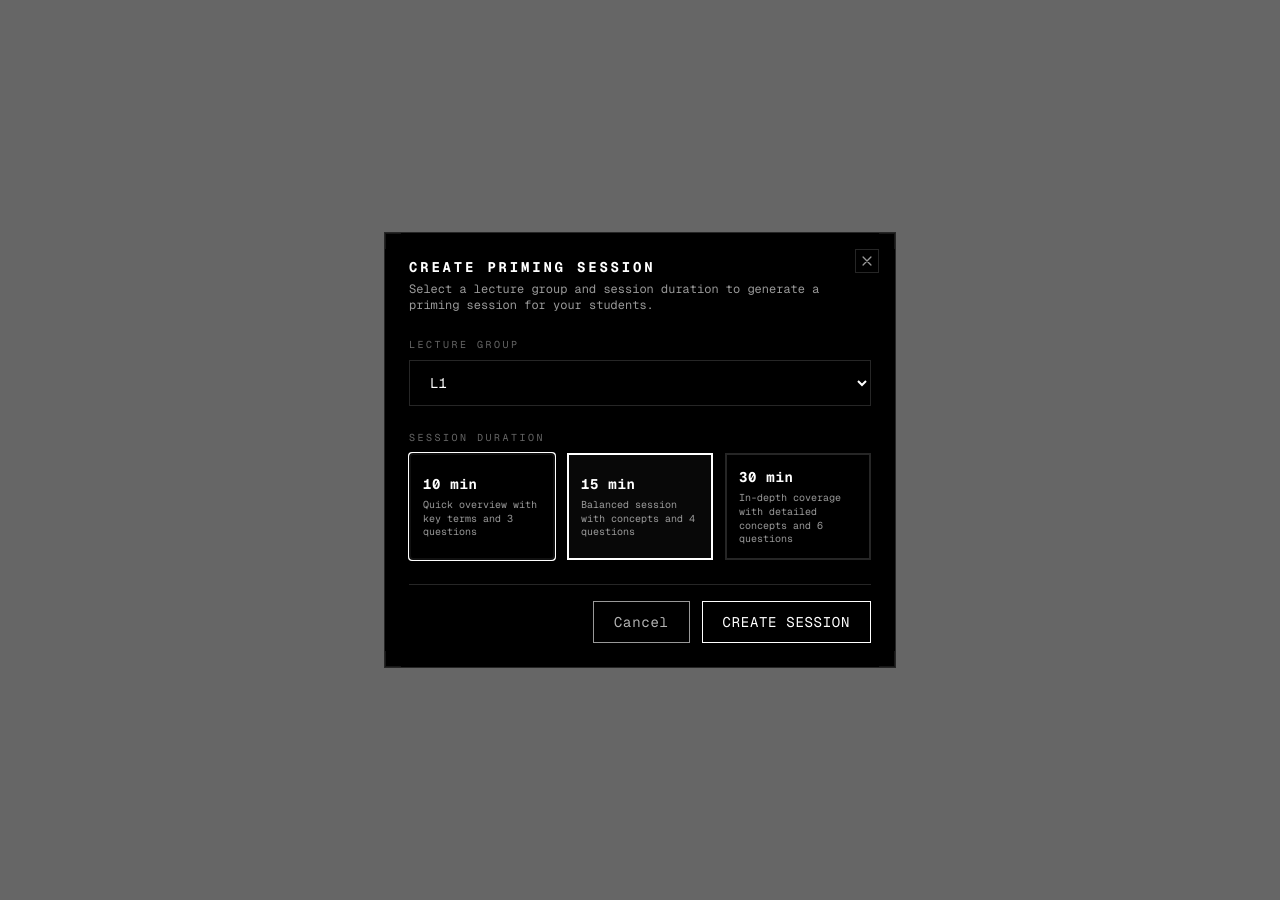
Scenario: CreateSessionModal › displays API error message
Step 1. Select "L1" in the dropdown → (640, 383), box [409,360,871,406]
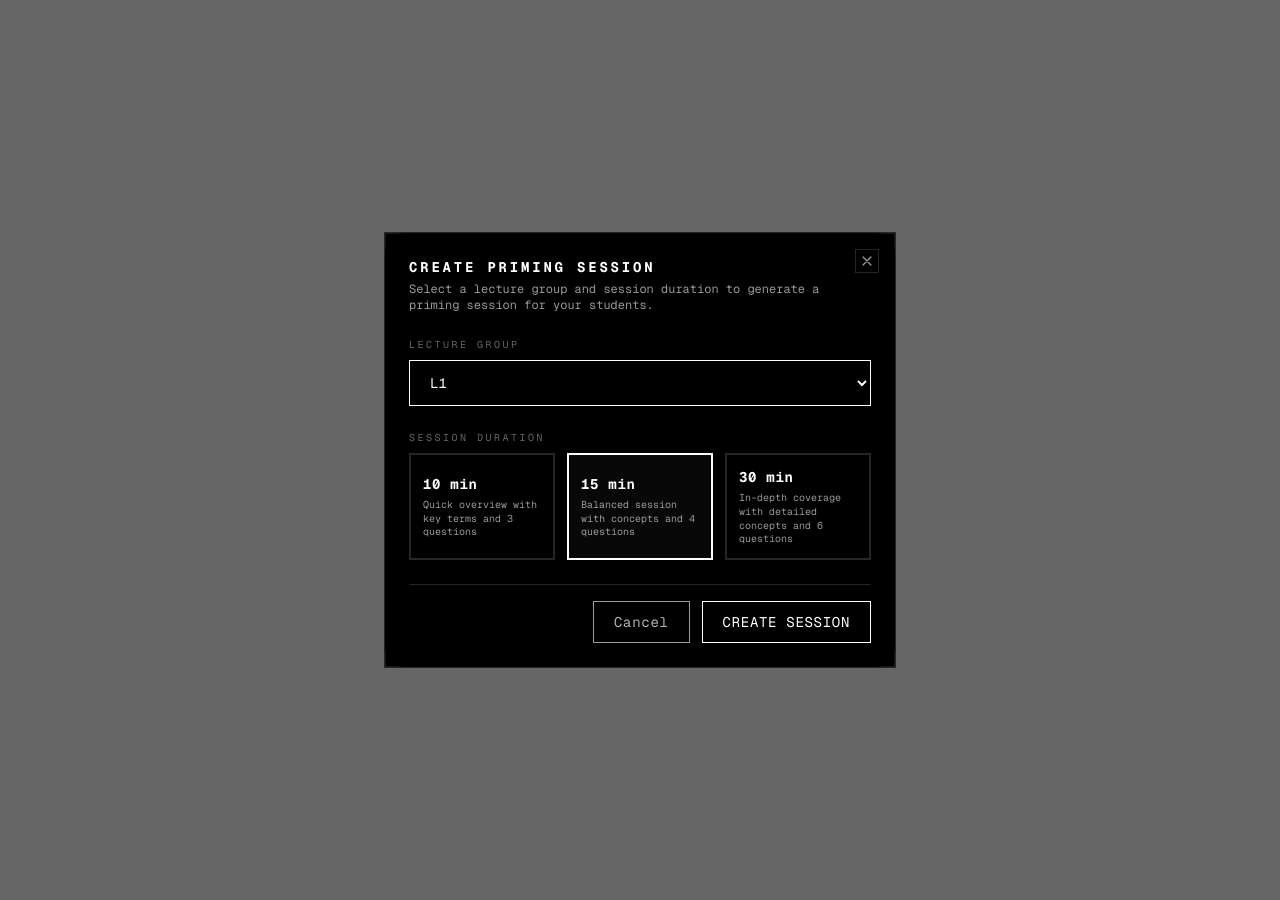
Step 2. Click the button "CREATE SESSION" → click(786, 622), box [702,601,871,643]
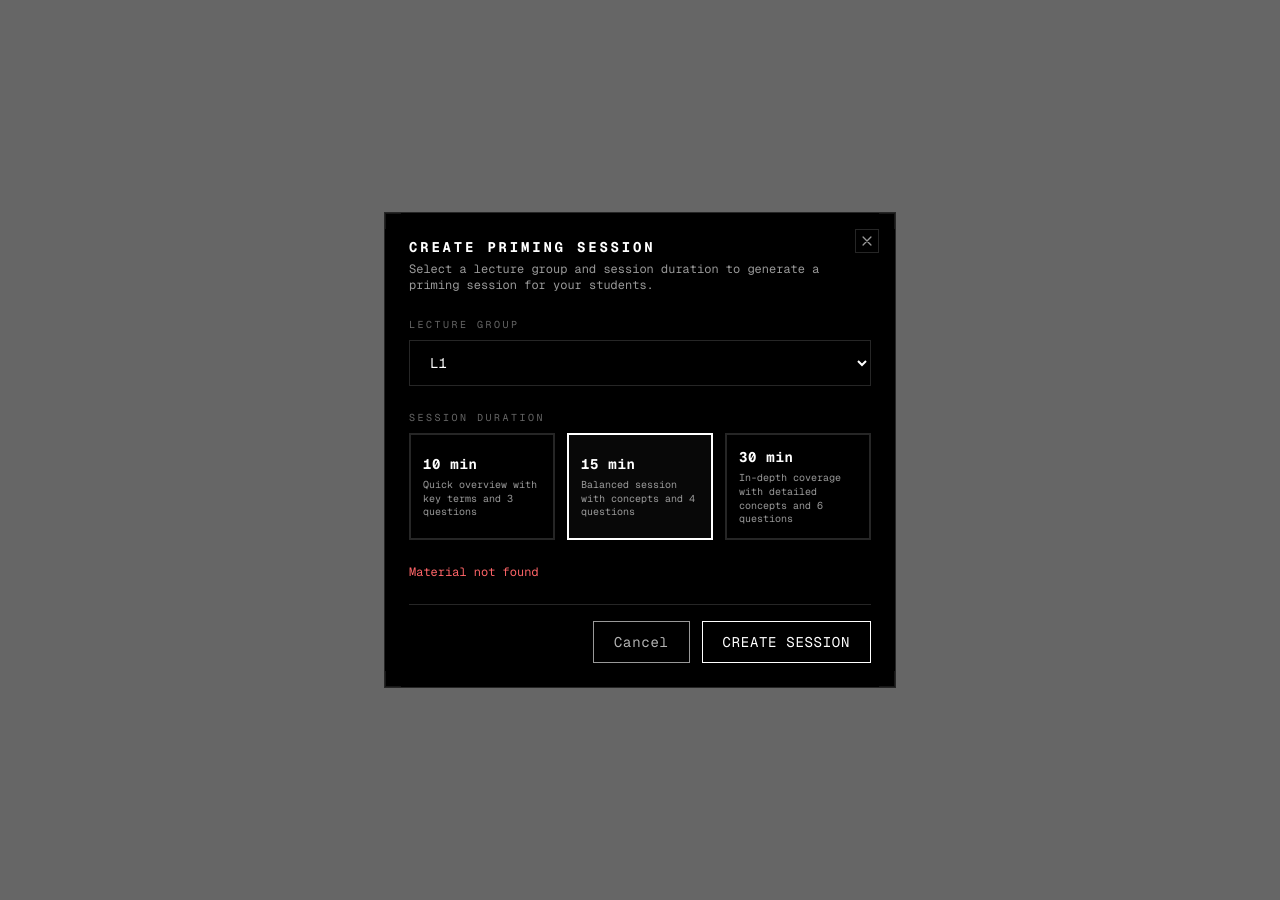
expect the text "Material not found" is shown: met, box [409,564,539,580]
